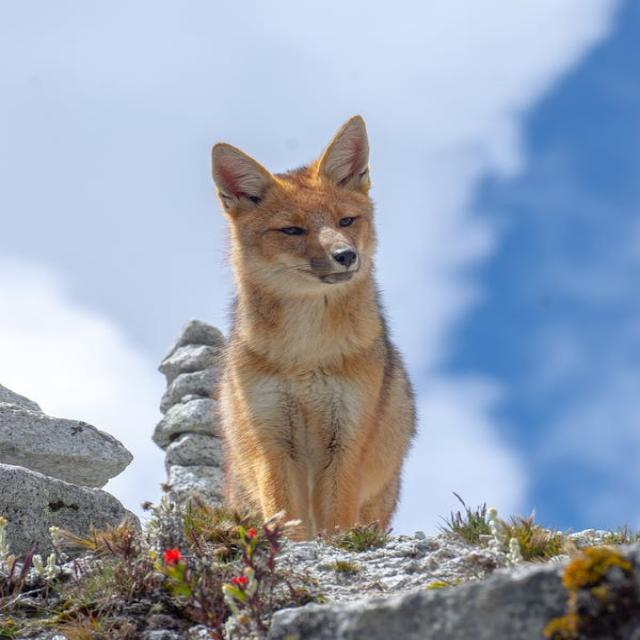cat: (192, 87, 430, 576)
